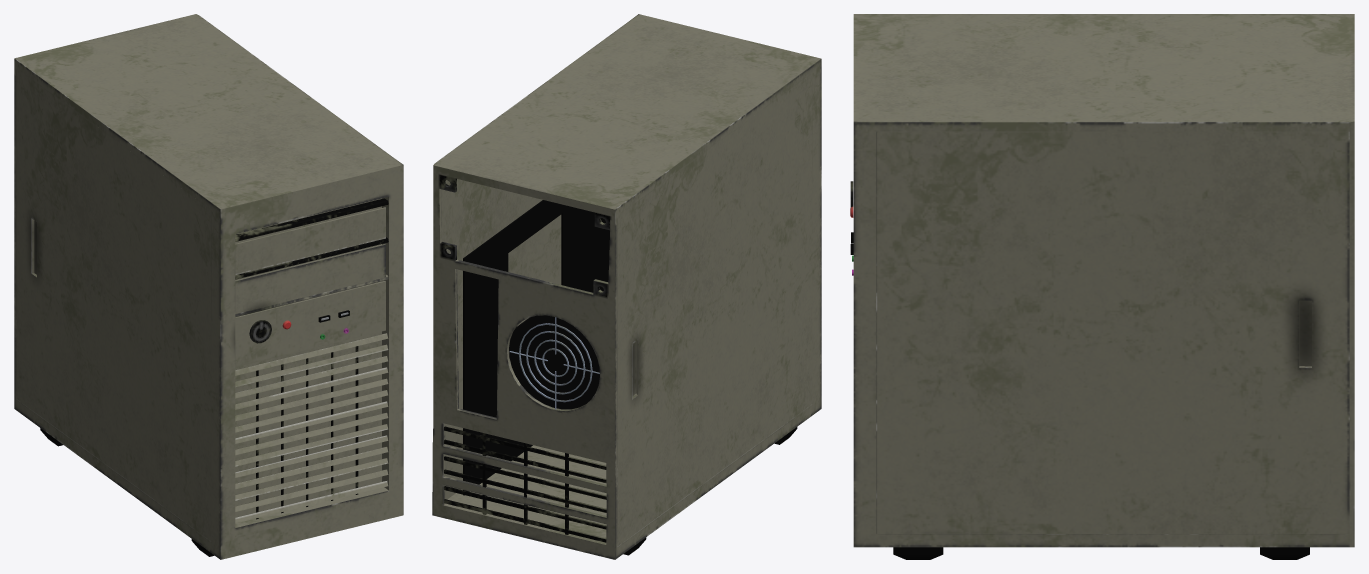
Rendered from SM_PCCase_001.fbx.
The picture shows the model from 3 angles, left to right: view 1: azimuth 30°, elevation 25°; view 2: azimuth 150°, elevation 25°; view 3: azimuth 270°, elevation 25°; orthographic projection. The views are drawn at different scales.
Visible parts, largest first — view 1: SM_PCCase_001, Door_001; view 2: SM_PCCase_001, Door_001, Door_002; view 3: Door_002, SM_PCCase_001.
Boxes of the visible parts, box(x1,y1,x2,y2) form: SM_PCCase_001: box(14, 14, 403, 559); Door_001: box(16, 68, 211, 541); SM_PCCase_001: box(432, 14, 821, 559); Door_001: box(617, 73, 812, 546); Door_002: box(441, 179, 561, 499); Door_002: box(876, 131, 1349, 533); SM_PCCase_001: box(850, 14, 1354, 559).
Size of the model in its own units: 20.3 by 38.77 by 39.92.
Materials: 1 (1 with a texture image).
